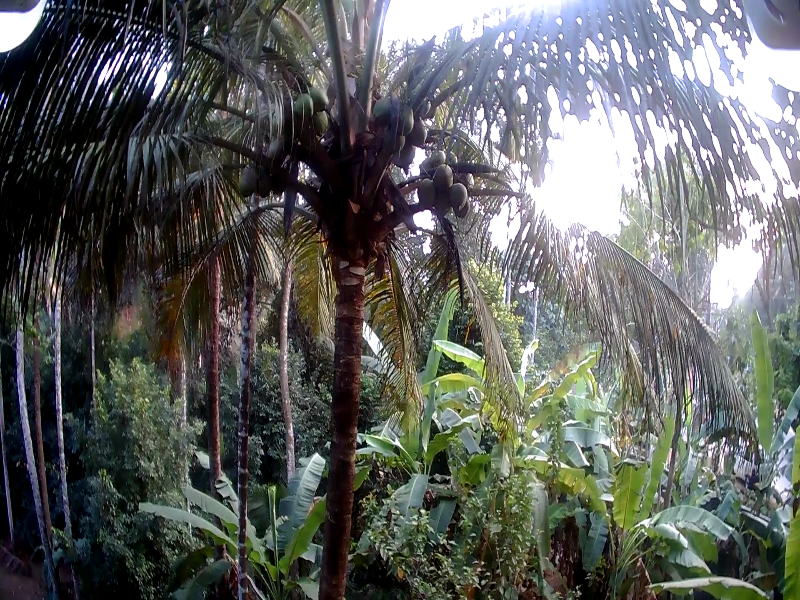coconut: (390, 103, 412, 130), (409, 113, 428, 143), (450, 180, 468, 211), (235, 169, 255, 193), (431, 166, 455, 185), (417, 179, 433, 207), (304, 88, 327, 107), (311, 106, 329, 129), (290, 96, 308, 118), (374, 96, 391, 118)
